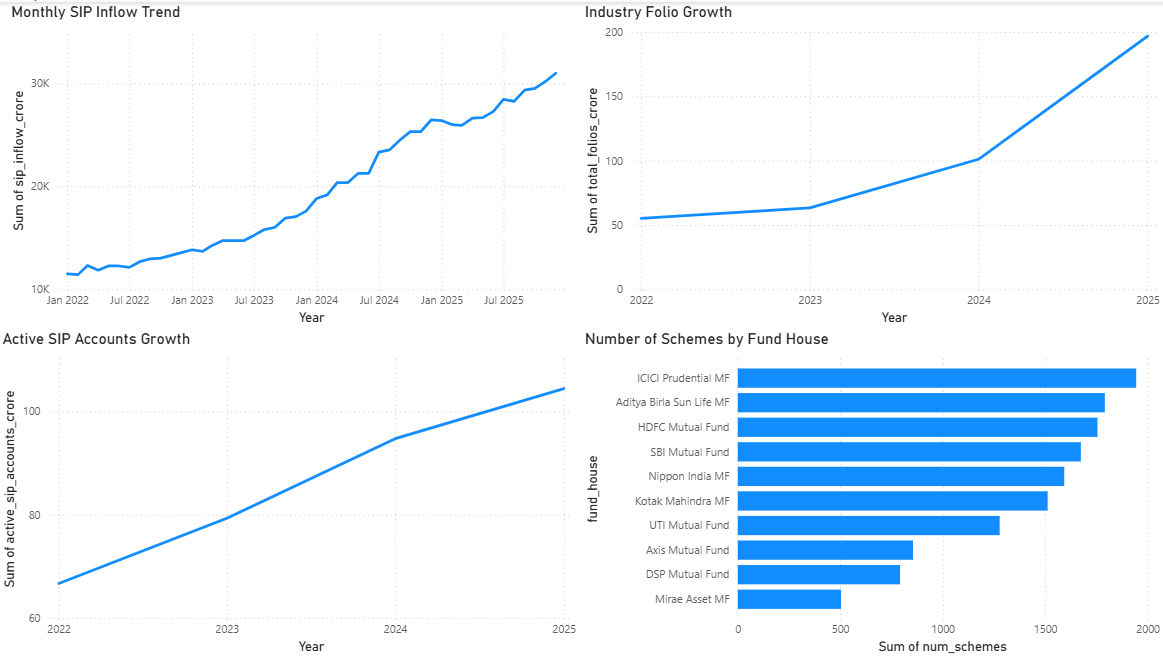

What the dashboard file says about the page in this screenshot:
{"tool":"powerbi","page":{"name":"Industry Trends","canvas":[1280,720],"ordinal":3},"visuals":[{"type":"lineChart","title":"Monthly SIP Inflow Trend","fields":{"Category":["04_monthly_sip_inflows.month.Variation.Date Hierarchy.Year","04_monthly_sip_inflows.month.Variation.Date Hierarchy.Quarter","04_monthly_sip_inflows.month.Variation.Date Hierarchy.Month","04_monthly_sip_inflows.month.Variation.Date Hierarchy.Day"],"Y":["Sum(04_monthly_sip_inflows.sip_inflow_crore)"]},"box":[9.6,0,629.8,359.5],"z":0},{"type":"lineChart","title":"Active SIP Accounts Growth","fields":{"Category":["04_monthly_sip_inflows.month.Variation.Date Hierarchy.Year","04_monthly_sip_inflows.month.Variation.Date Hierarchy.Quarter","04_monthly_sip_inflows.month.Variation.Date Hierarchy.Month","04_monthly_sip_inflows.month.Variation.Date Hierarchy.Day"],"Y":["Sum(04_monthly_sip_inflows.active_sip_accounts_crore)"]},"box":[0,359.5,639.5,360.9],"z":1000},{"type":"lineChart","title":"Industry Folio Growth","fields":{"Category":["06_industry_folio_count.month.Variation.Date Hierarchy.Year","06_industry_folio_count.month.Variation.Date Hierarchy.Quarter","06_industry_folio_count.month.Variation.Date Hierarchy.Month","06_industry_folio_count.month.Variation.Date Hierarchy.Day"],"Y":["Sum(06_industry_folio_count.total_folios_crore)"]},"box":[639.5,0,640.8,359.5],"z":2000},{"type":"clusteredBarChart","title":"Number of Schemes by Fund House","fields":{"Category":["03_aum_by_fund_house.fund_house"],"Y":["Sum(03_aum_by_fund_house.num_schemes)"]},"box":[639.5,359.5,640.8,360.9],"z":3000}]}

Visuals, with their boxes in screenshot pixels (x1, y1, x2, y2), scaled from the page's 1280x720 canvas onto the 1163x657 screenshot:
"Monthly SIP Inflow Trend" lineChart: {"left": 9, "top": 0, "right": 581, "bottom": 328}
"Active SIP Accounts Growth" lineChart: {"left": 0, "top": 328, "right": 581, "bottom": 656}
"Industry Folio Growth" lineChart: {"left": 581, "top": 0, "right": 1162, "bottom": 328}
"Number of Schemes by Fund House" clusteredBarChart: {"left": 581, "top": 328, "right": 1162, "bottom": 656}
